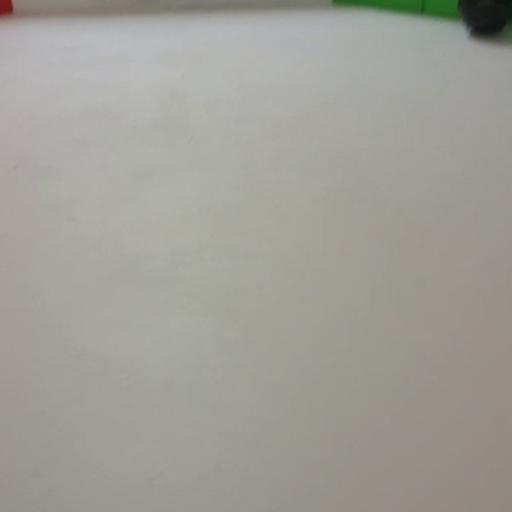dead: (458, 0, 510, 37)
